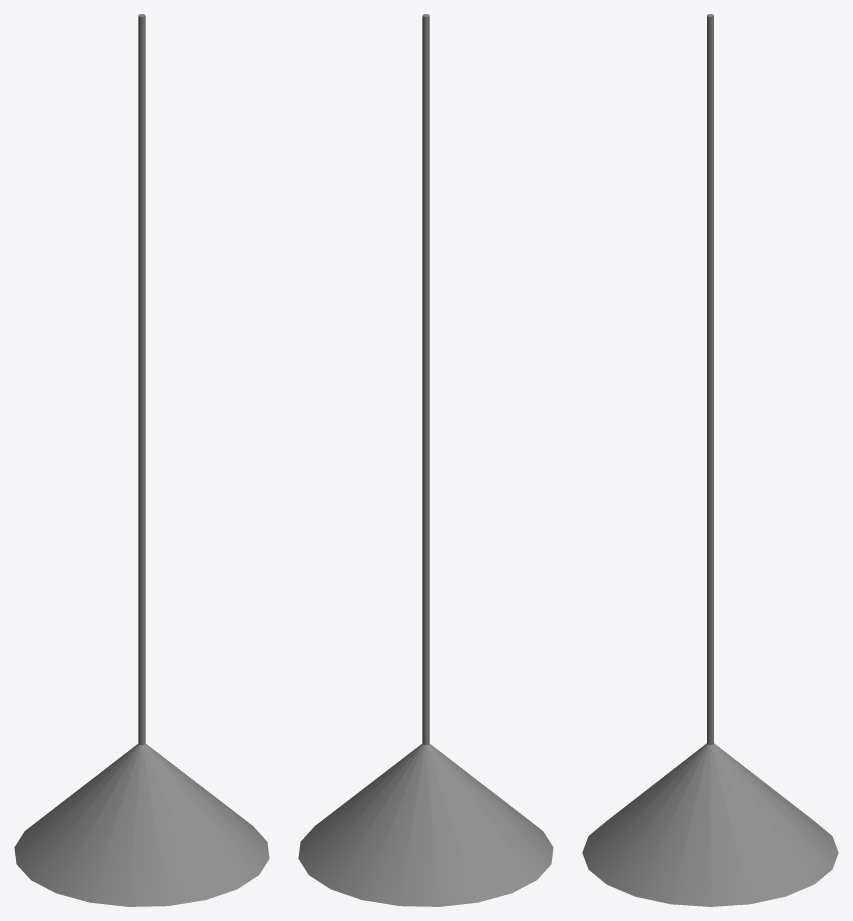
The model's file is Klax_Light_01.fbx.
3 renders of one model, left to right at view 1: azimuth 30°, elevation 25°; view 2: azimuth 150°, elevation 25°; view 3: azimuth 270°, elevation 25°, orthographic.
Parts seen in each view (by area): view 1: Klax_Light_01; view 2: Klax_Light_01; view 3: Klax_Light_01.
Boxes of the visible parts, x1,y1,x2,y2 form: Klax_Light_01: [14, 14, 269, 906]; Klax_Light_01: [298, 14, 553, 906]; Klax_Light_01: [582, 14, 838, 906].
Bounding box in the file's own units: 1.8 × 6.48 × 1.8.
